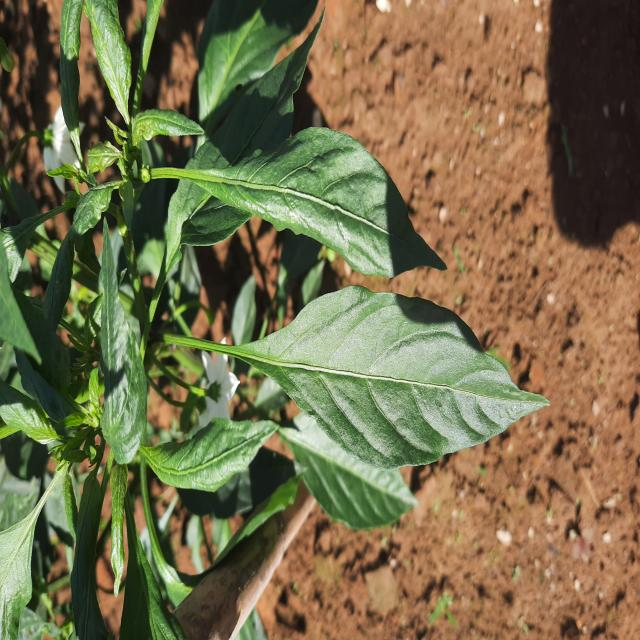sehat: (193, 286, 547, 476), (288, 434, 414, 532)
